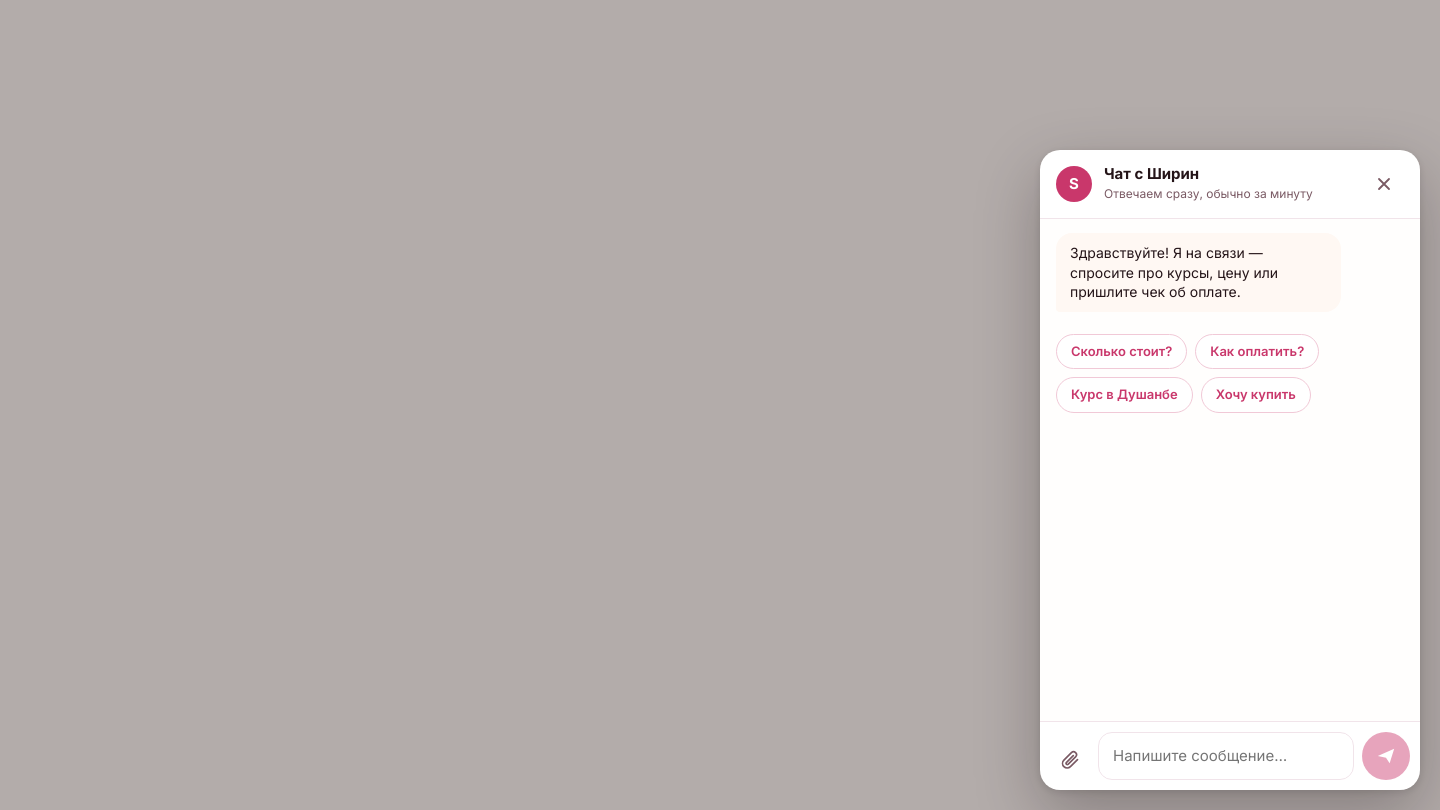
Test case: ChatWidget › несколько сообщений от сервера рендерятся отдельными пузырями
Type "Привет" into the text box labelled "сообщение". click: (1226, 756)
box: [1098,732,1354,780]
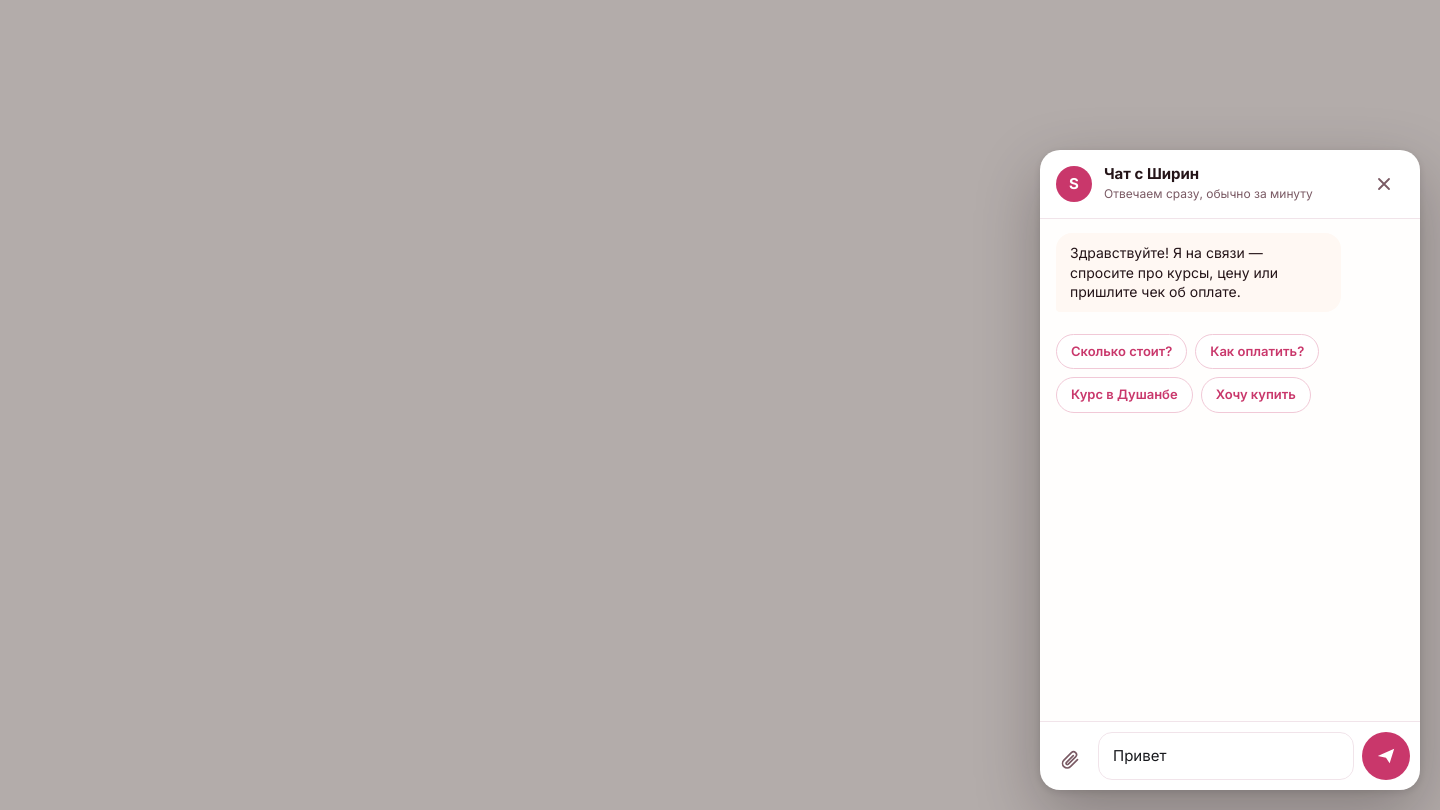
Click the button named "Отправить". click: (1386, 756)
box: [1362,732,1410,780]
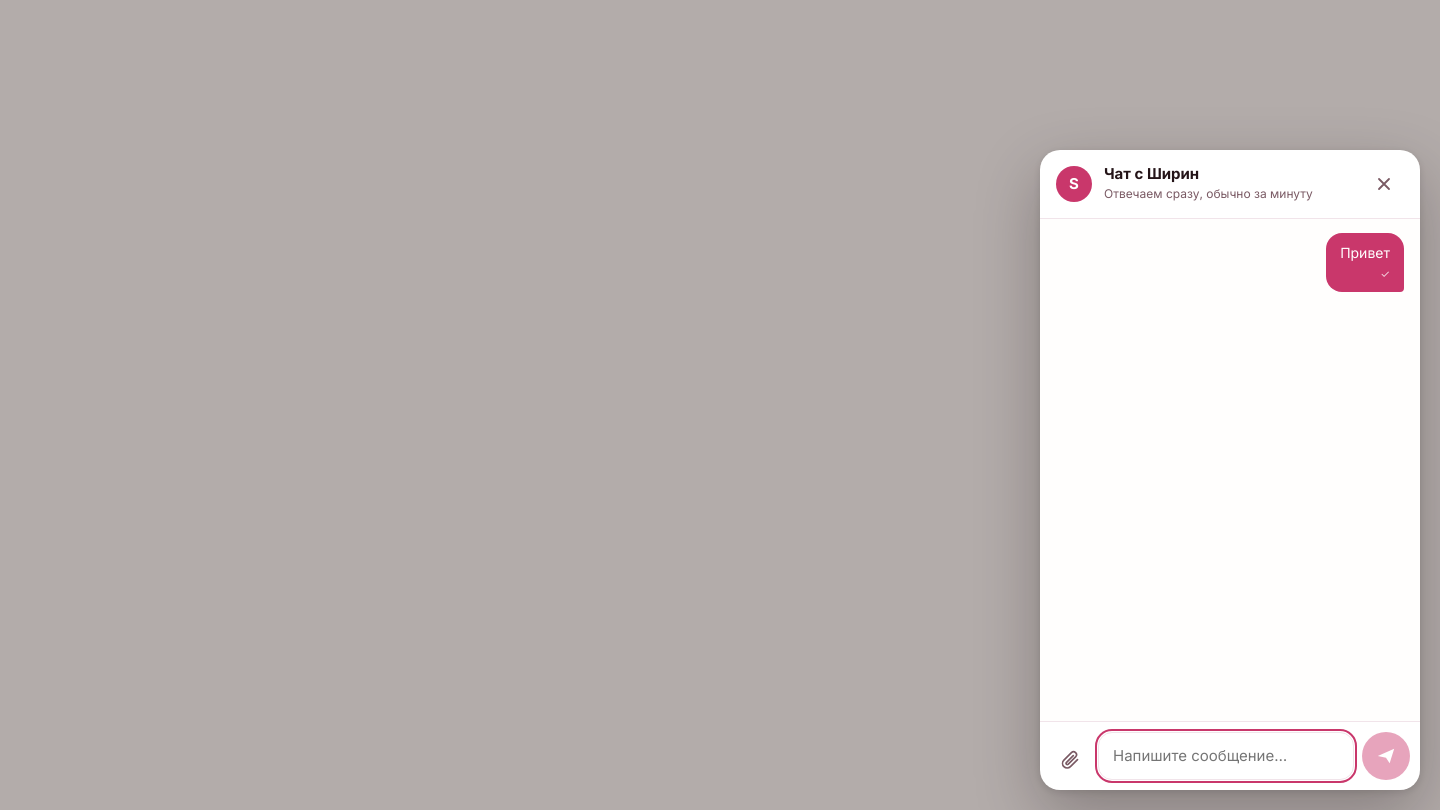
Result: the text "Привет" is shown at [1340,244,1390,261]
